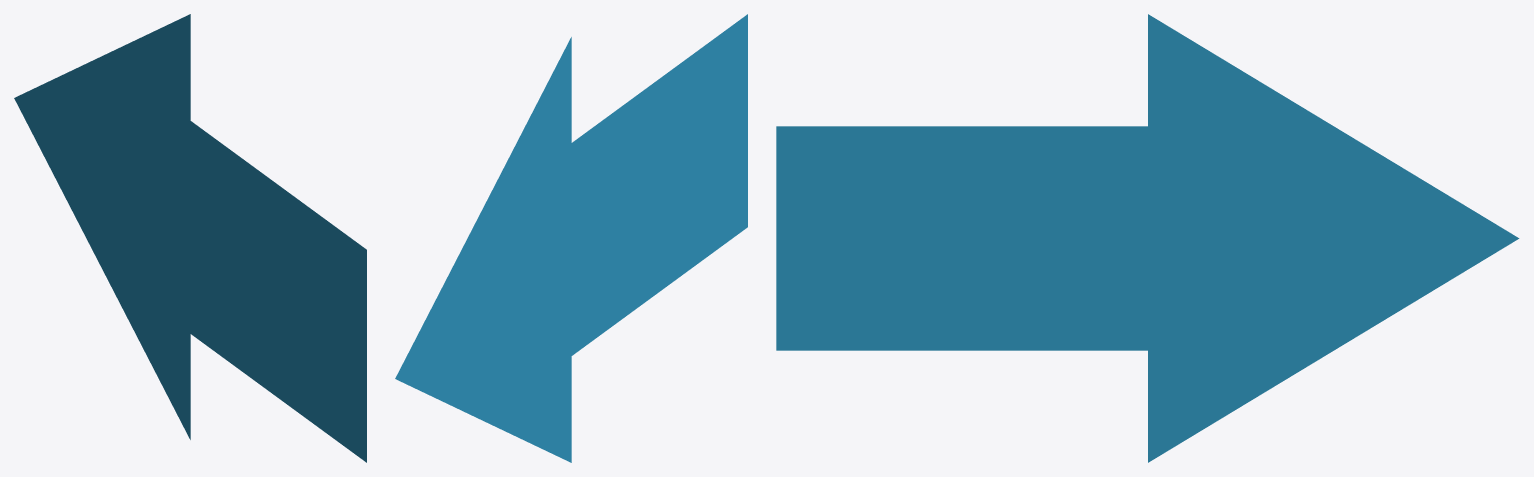
File: 09_CafteriaMap.glb
The picture shows the model from 3 angles, left to right: view 1: azimuth 30°, elevation 25°; view 2: azimuth 150°, elevation 25°; view 3: azimuth 270°, elevation 25°; orthographic projection. The views are drawn at different scales.
Parts seen in each view (by area): view 1: Cube; view 2: Cube; view 3: Cube.
Part boxes in pixels (<box>): Cube: <box>14,14,366,462</box>; Cube: <box>395,14,747,462</box>; Cube: <box>776,14,1519,462</box>.
Size of the model in its own units: 1.78e-17 by 0.08 by 0.12.
